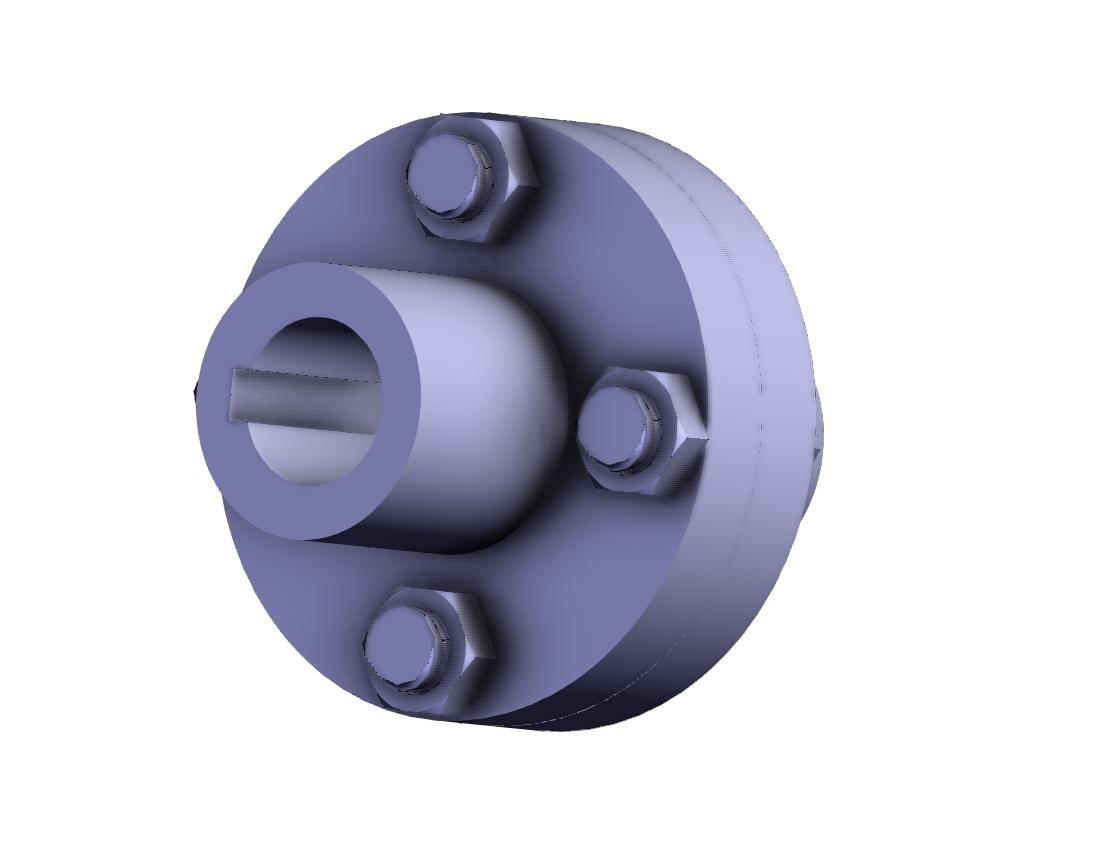bolt_b: (572, 361, 710, 503), (357, 585, 496, 718), (404, 114, 539, 248)
